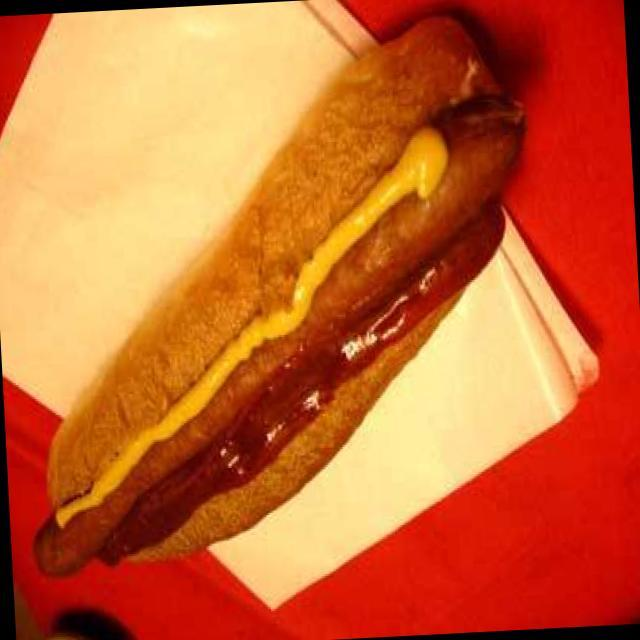Hot Dog: (0, 8, 569, 592)
